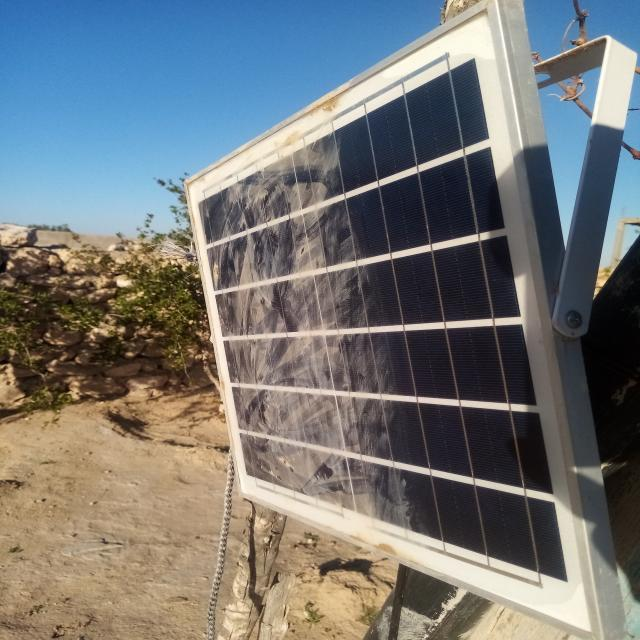faulty: (183, 0, 601, 640)
